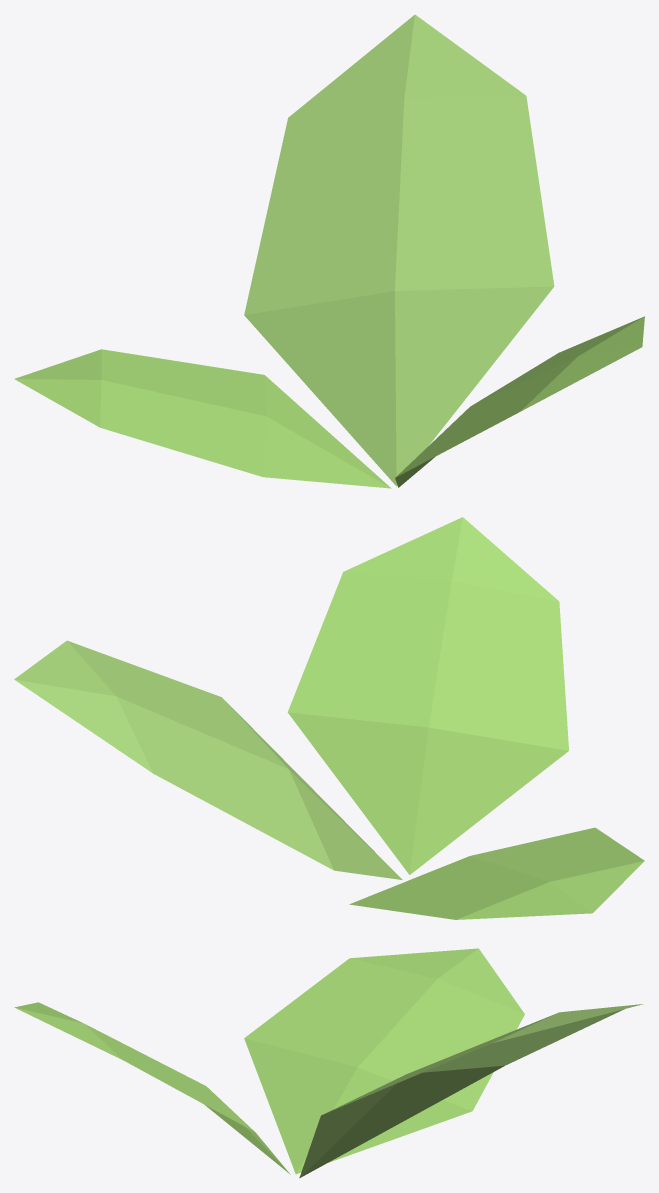
The model's file is Plant_h_OneS_03.fbx.
3 renders of one model, top to bottom at view 1: azimuth 30°, elevation 25°; view 2: azimuth 150°, elevation 25°; view 3: azimuth 270°, elevation 25°, orthographic. The views are drawn at different scales.
Parts seen in each view (by area): view 1: Plant_h_OneS_03; view 2: Plant_h_OneS_03; view 3: Plant_h_OneS_03.
Boxes of the visible parts, left/top/right/bottom form: Plant_h_OneS_03: left=14, top=14, right=644, bottom=488; Plant_h_OneS_03: left=14, top=517, right=644, bottom=919; Plant_h_OneS_03: left=14, top=948, right=643, bottom=1178.
Bounding box in the file's own units: 0.355 × 0.1873 × 0.4005.
